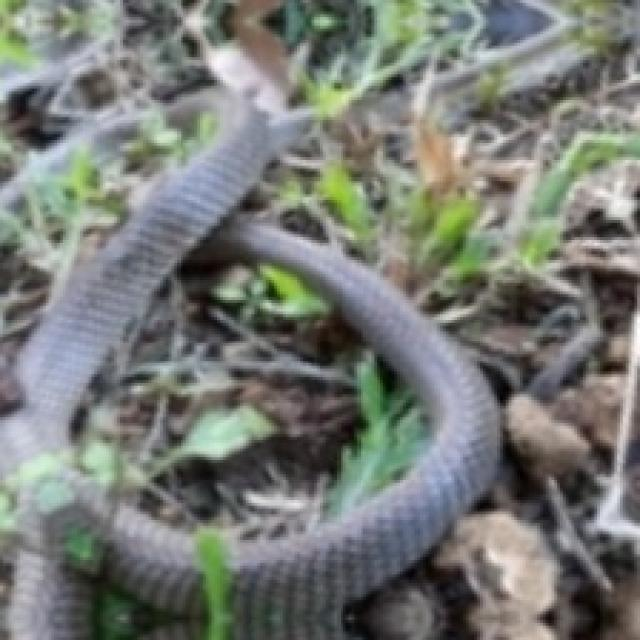paradise tree snake: (0, 97, 309, 474), (229, 223, 497, 637), (9, 466, 194, 637)
